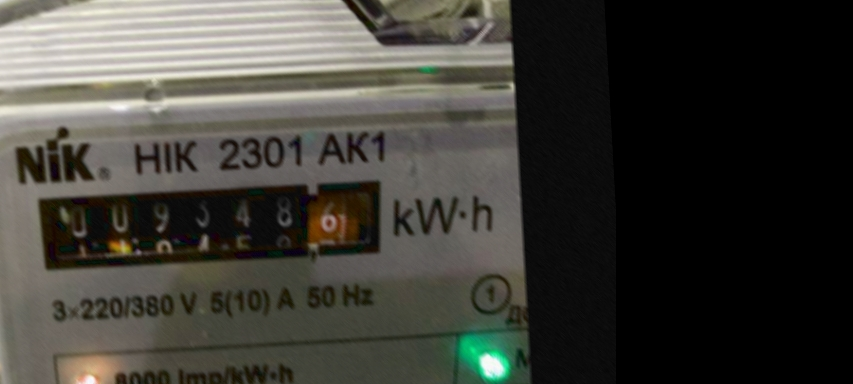0: (106, 199, 129, 236), (65, 203, 87, 239)
3: (188, 195, 212, 228)
4: (228, 193, 251, 231)
6: (315, 198, 339, 233)
8: (271, 193, 293, 228)
9: (149, 197, 169, 232)
screen: (12, 164, 402, 287)
